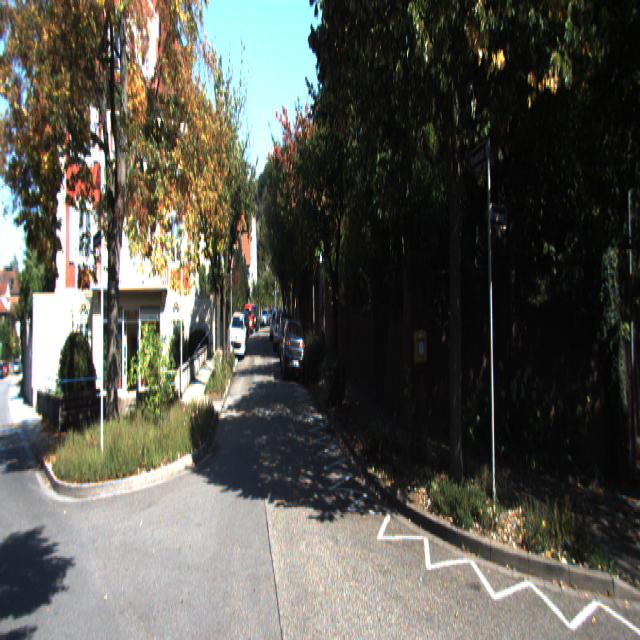Car: (280, 315, 305, 385), (228, 312, 246, 362)
